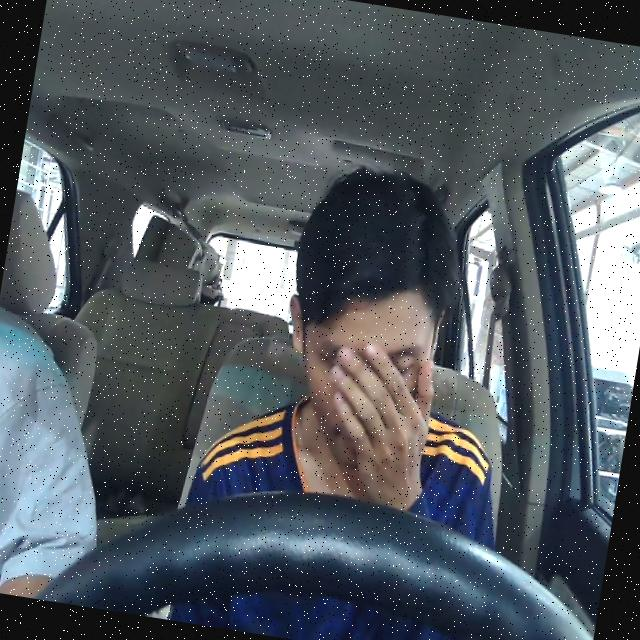yarning: (260, 273, 448, 483)
